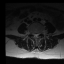CCS_normal: (35, 32, 37, 39)
LFS_stenosis: (39, 30, 41, 35)
LLS_normal: (37, 31, 39, 38)
RFS_normal: (31, 30, 33, 36)
RLS_normal: (33, 31, 35, 37)
